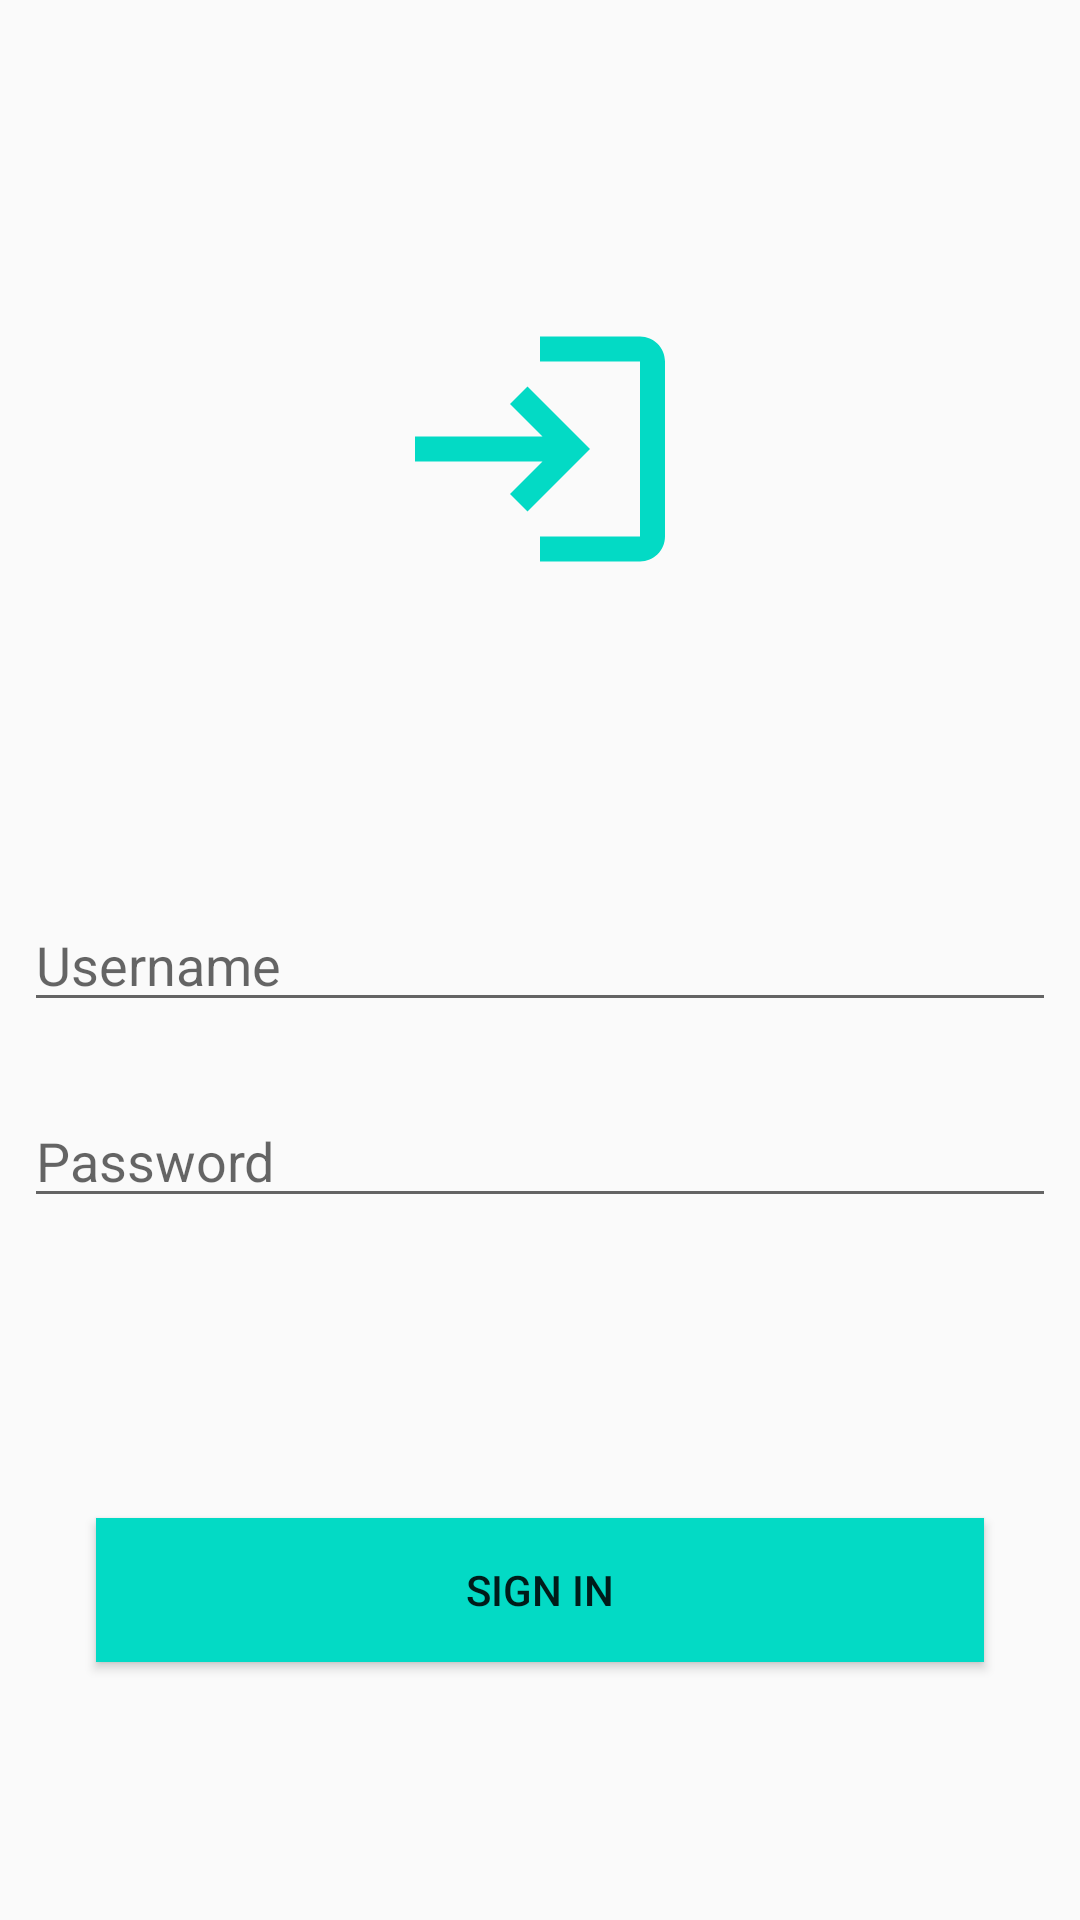

Where to tap for icons on this 1080x1920 app screen, as [x,y]:
login: [540,449]
